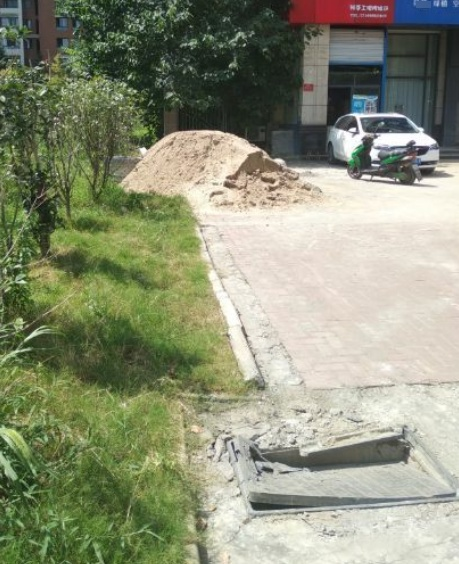broke: (217, 426, 456, 505)
